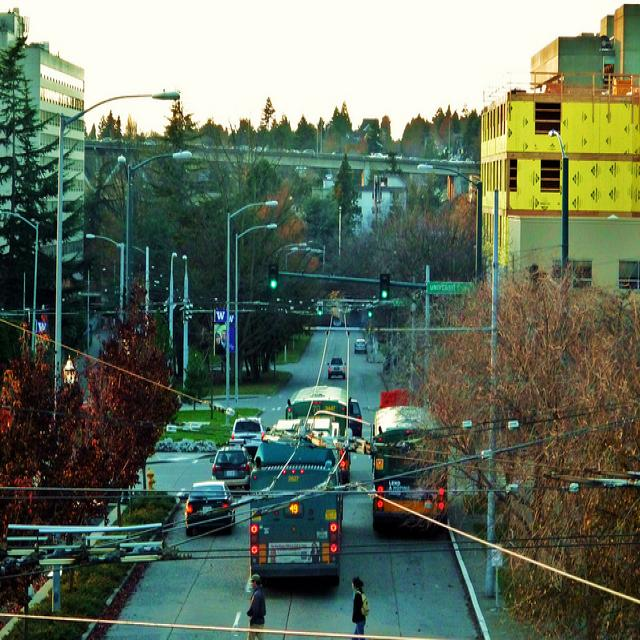Vehicle: (251, 439, 345, 585), (372, 404, 449, 539), (186, 481, 238, 542), (285, 385, 348, 420), (212, 447, 253, 490), (230, 416, 267, 444), (326, 357, 347, 380), (354, 339, 367, 354), (332, 317, 344, 326)
